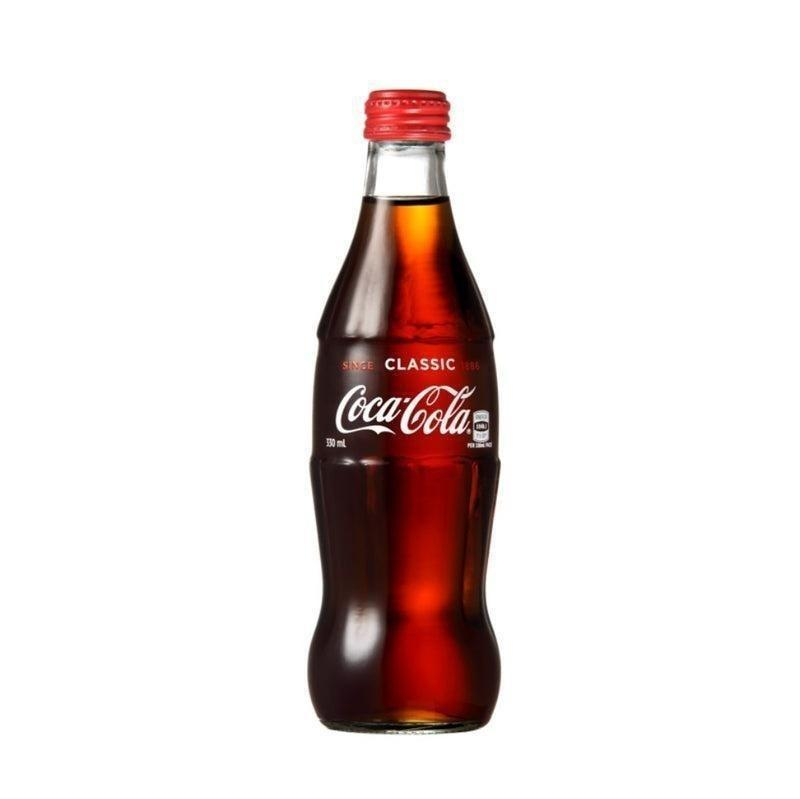bottle-glass: (303, 81, 509, 742)
